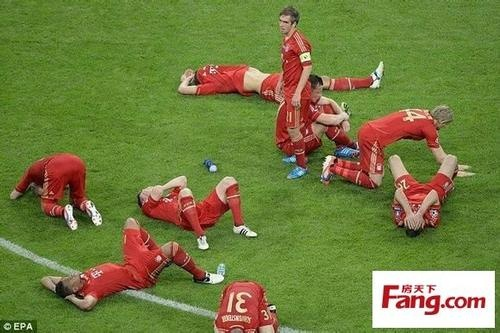falling: (199, 274, 289, 331)
